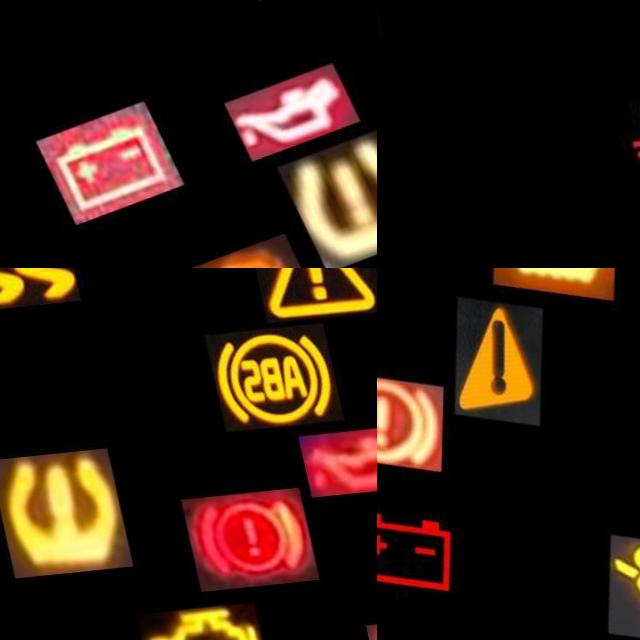Central Warning lamp: (420, 293, 552, 437), (240, 268, 377, 333)
Engine cooling system: (185, 0, 353, 34)
